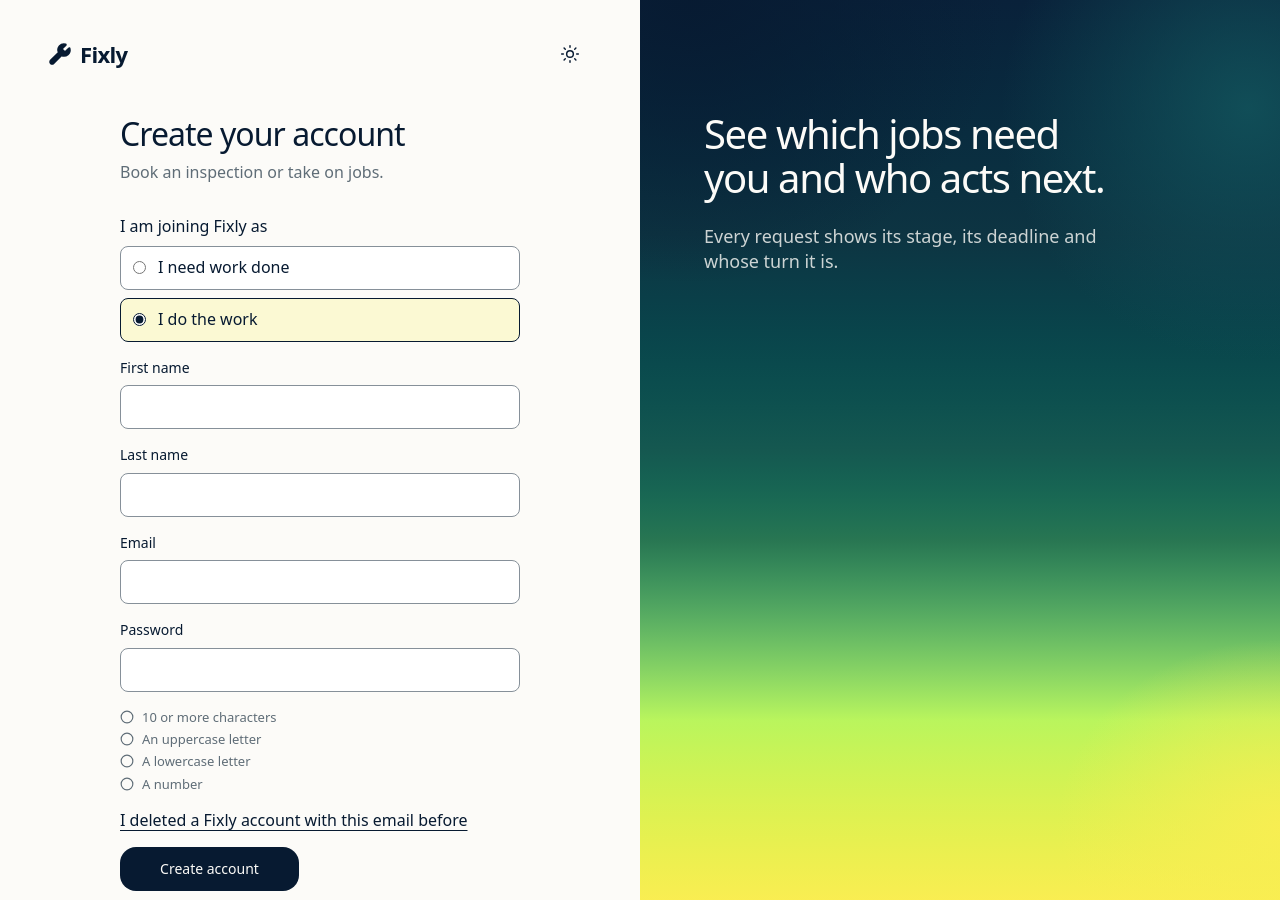
register 201 shows the inbox message and preserves next
Check: the radio button labelled "I do the work" is checked, box [133, 313, 146, 326]
Type "Ada" into the field labelled "First name".
click(320, 407); type("Ada")  # box [120, 385, 520, 429]
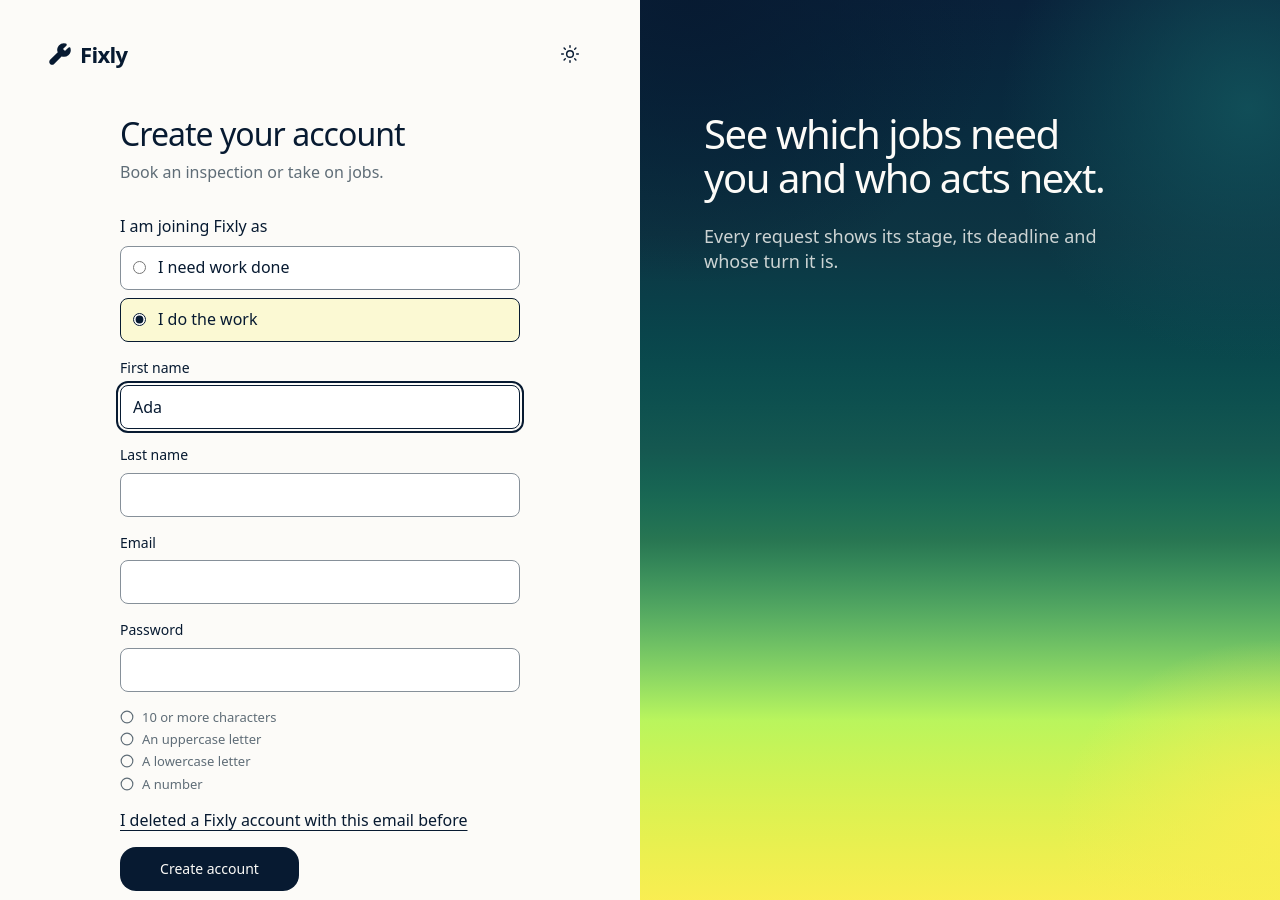
Type "Obi" into the field labelled "Last name".
click(320, 495); type("Obi")  # box [120, 473, 520, 517]
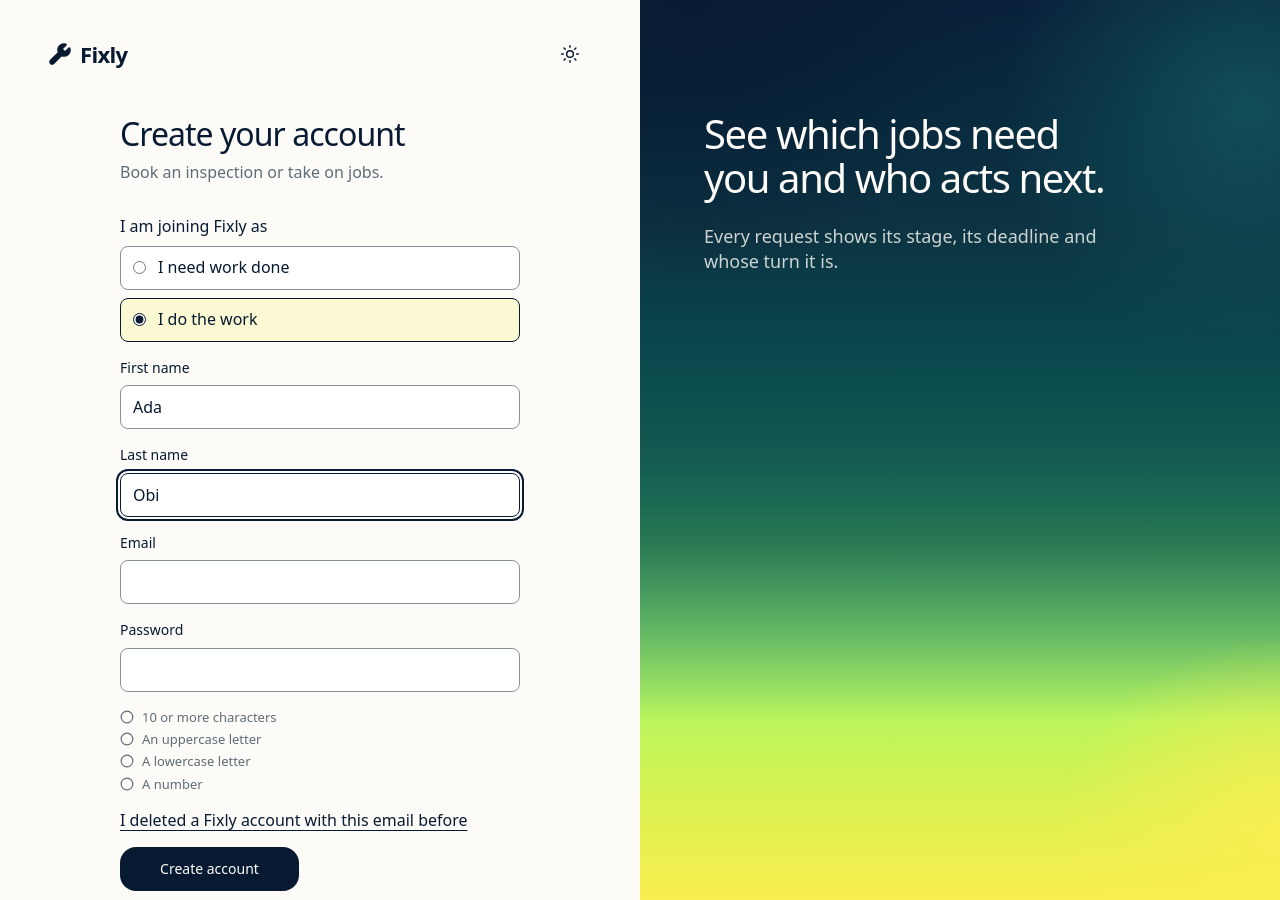
Type "ada@b.com" into the field labelled "Email".
click(320, 582); type("ada@b.com")  # box [120, 560, 520, 604]
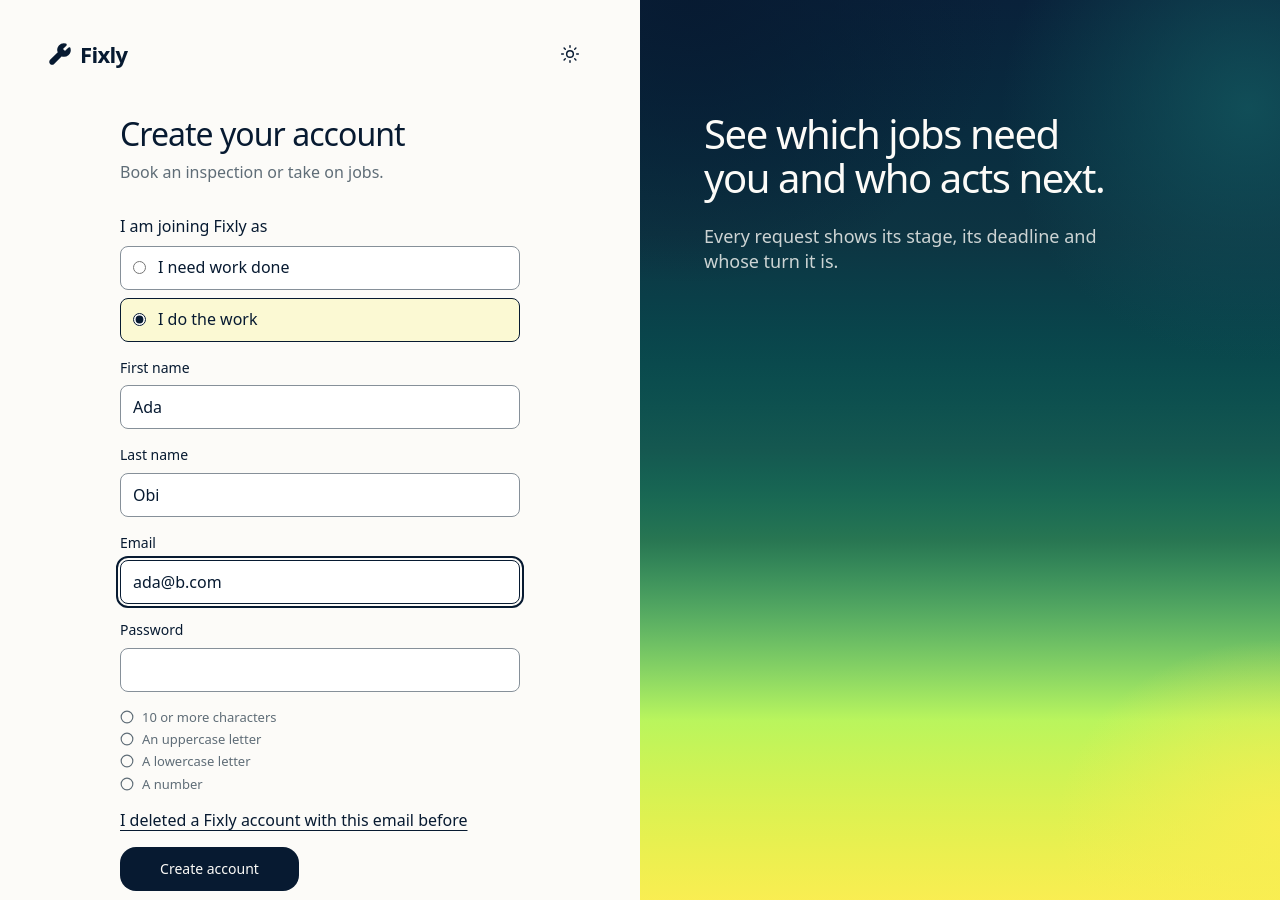
Type "Abcdefghi1" into the password field labelled "Password".
click(320, 670); type("Abcdefghi1")  # box [120, 648, 520, 692]
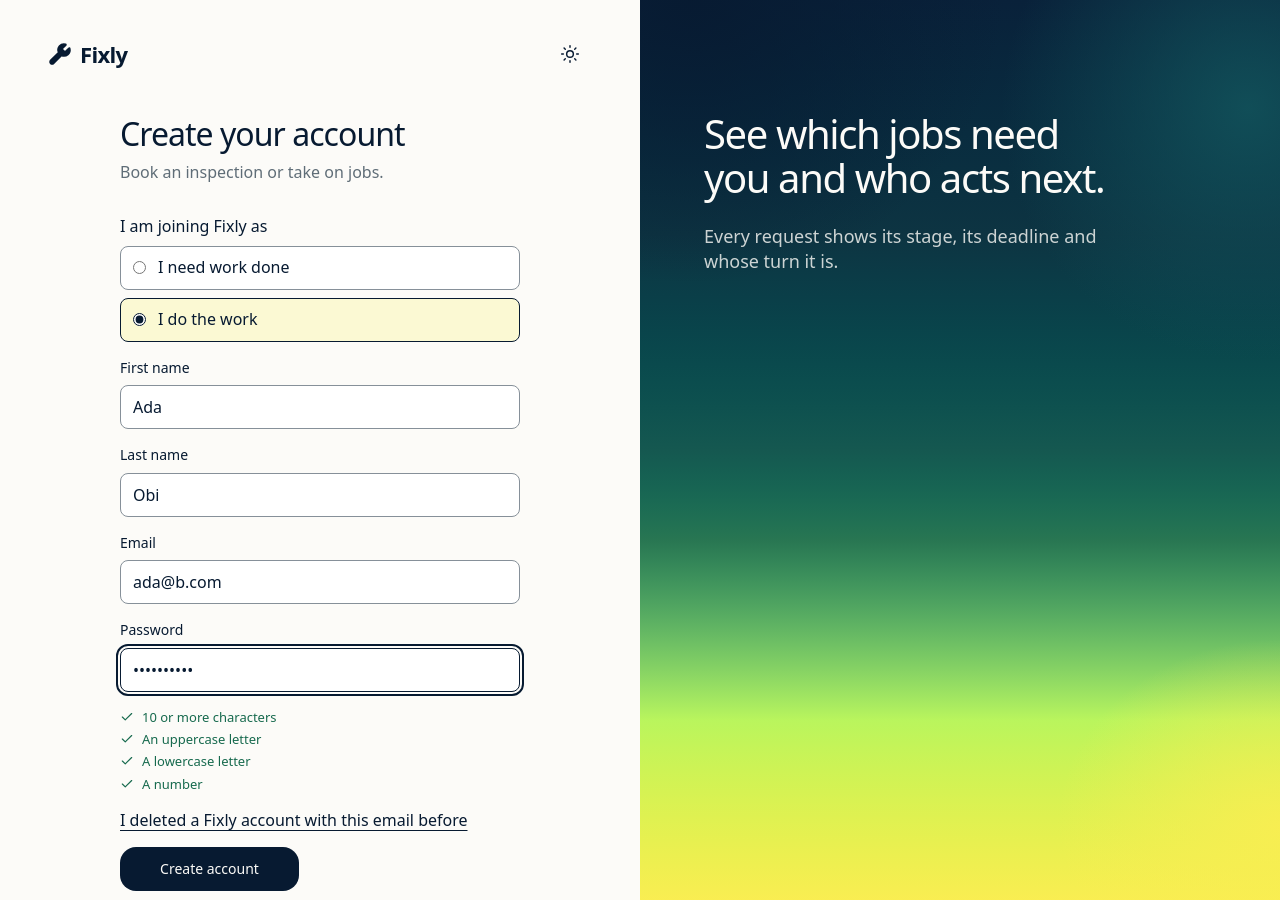
Click the button "Create account".
click(209, 869)  # box [120, 847, 299, 891]
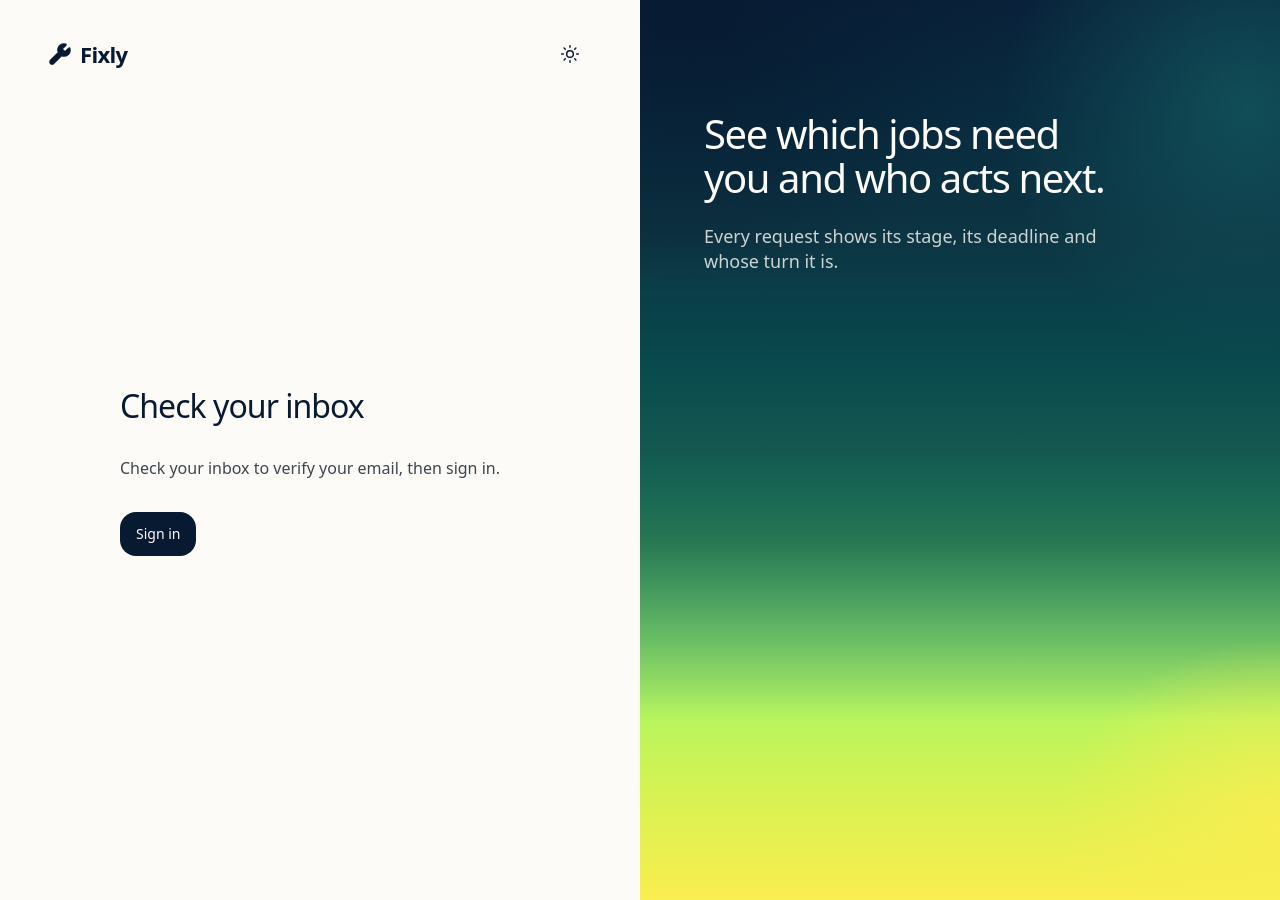
Check: the text "Check your inbox to verify your email, then sign in." is shown, box [120, 457, 520, 480]
